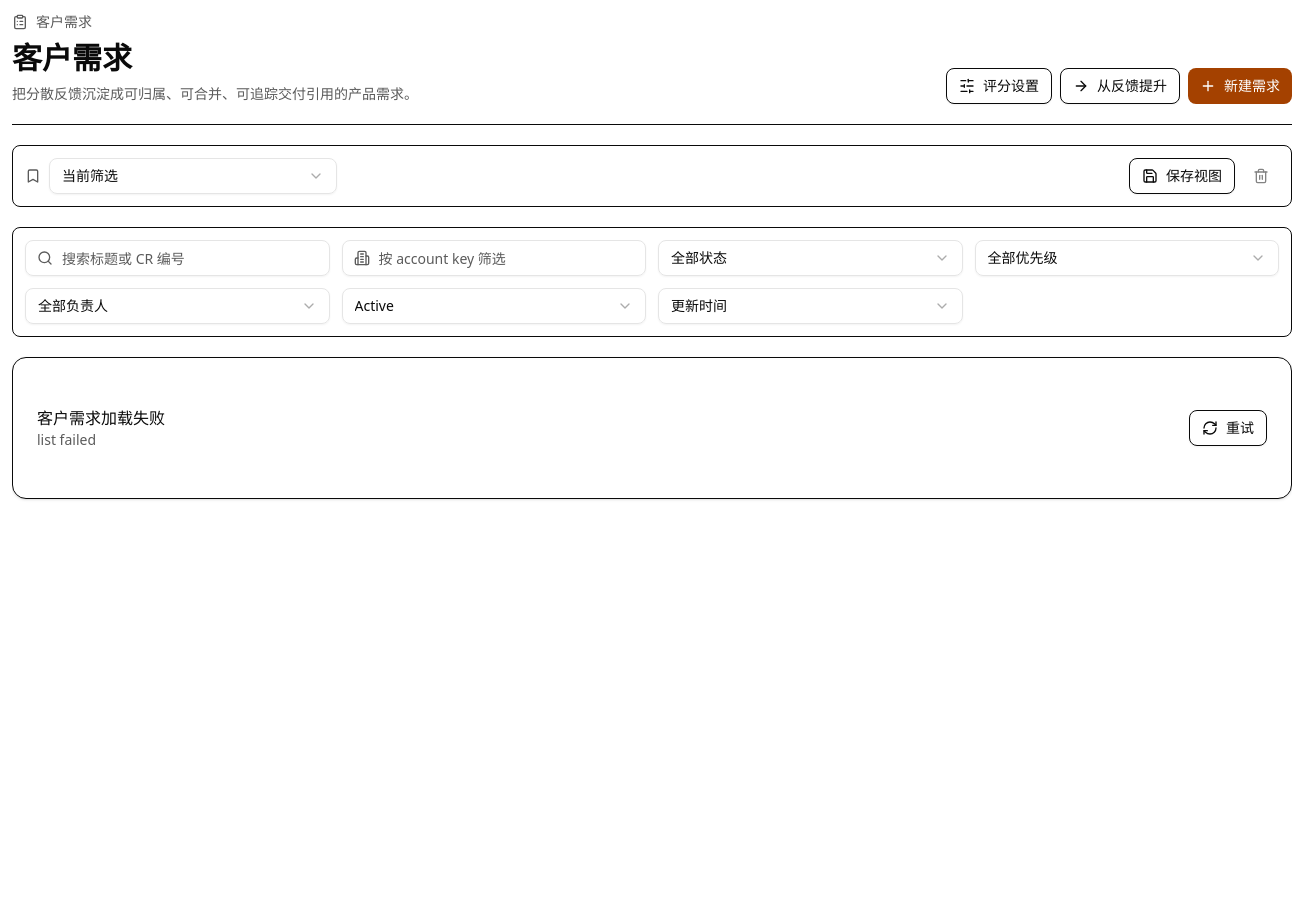
Scenario: CustomerRequestsPage › retries after the list query fails
The width and height of the screenshot is (1304, 912).
Expected: the text "客户需求加载失败" is shown, [37,406,165,430]
Click the button "重试": (1228,428) [1189,410,1267,446]
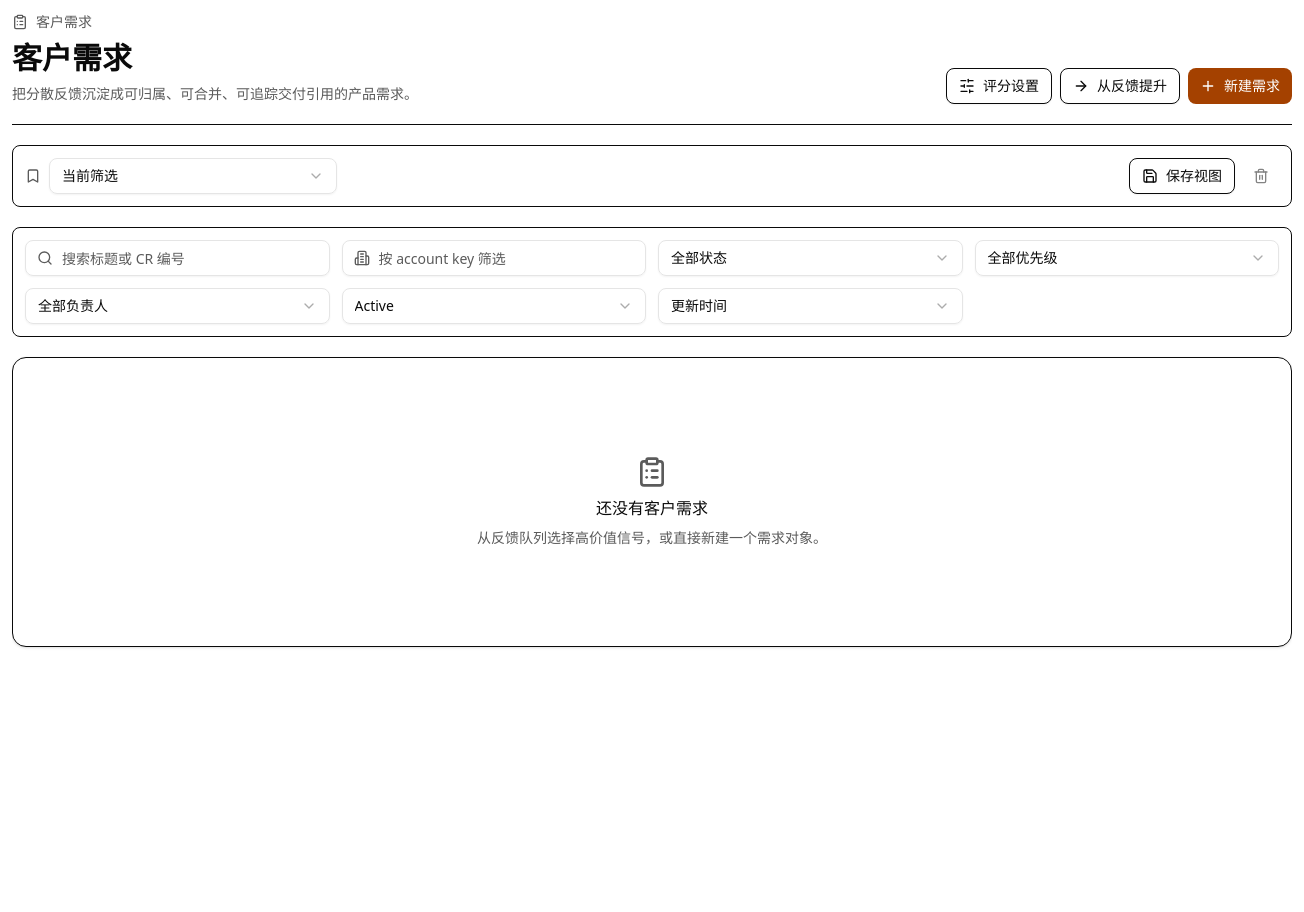
Expected: the text "还没有客户需求" is shown, [596,497,708,519]
